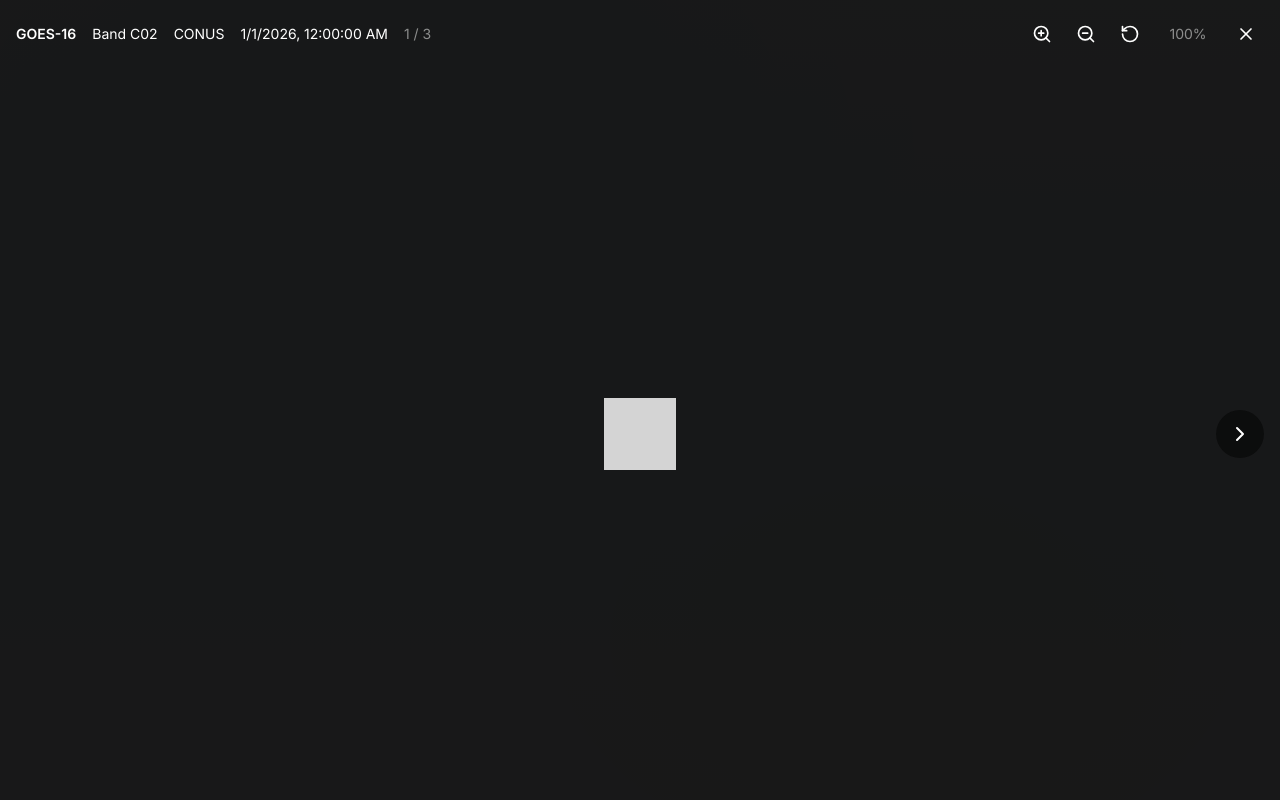
Test case: ImageViewer extended › resets zoom to 100%
This screenshot has width=1280, height=800.
Click the button titled "Zoom in" at (1042, 34), box [1024,16,1060,52]
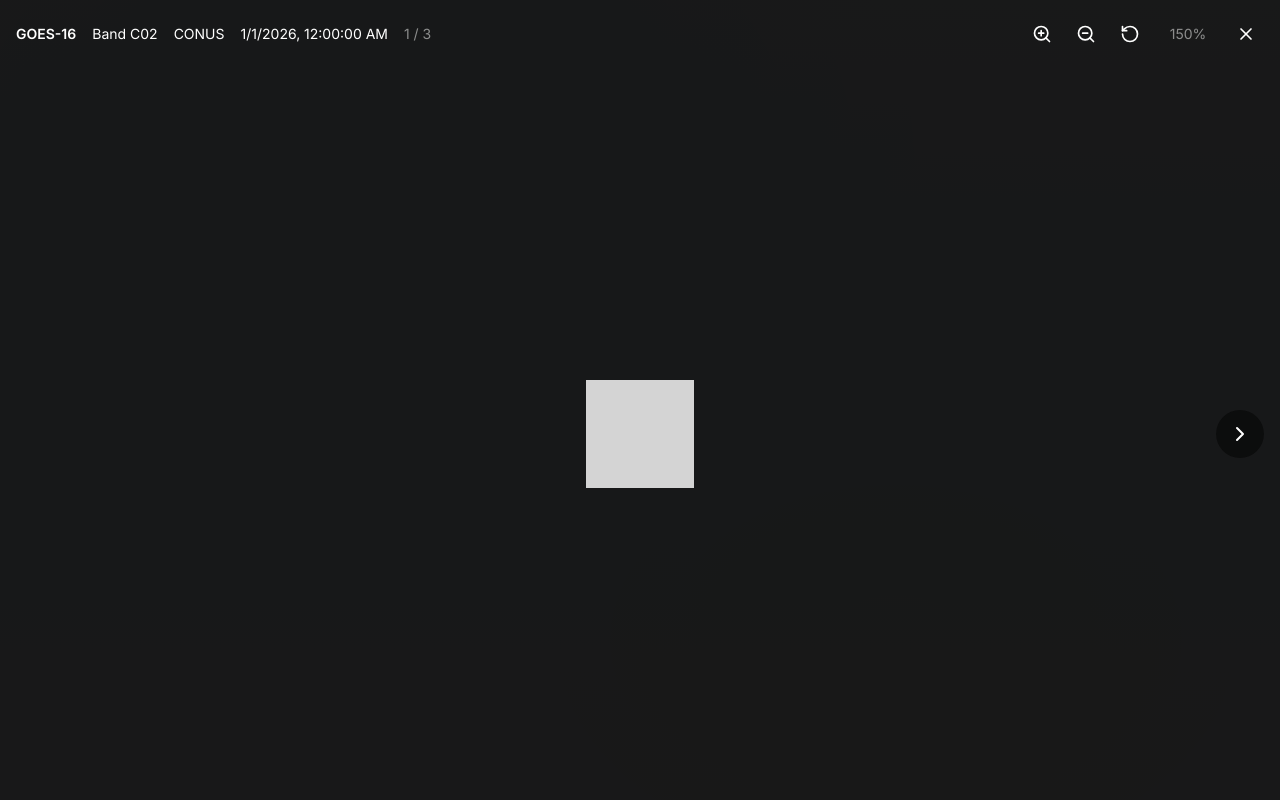
Expected: the text "150%" is shown, [1170,25,1206,42]
Click the button titled "Reset zoom" at (1130, 34), box [1112,16,1148,52]
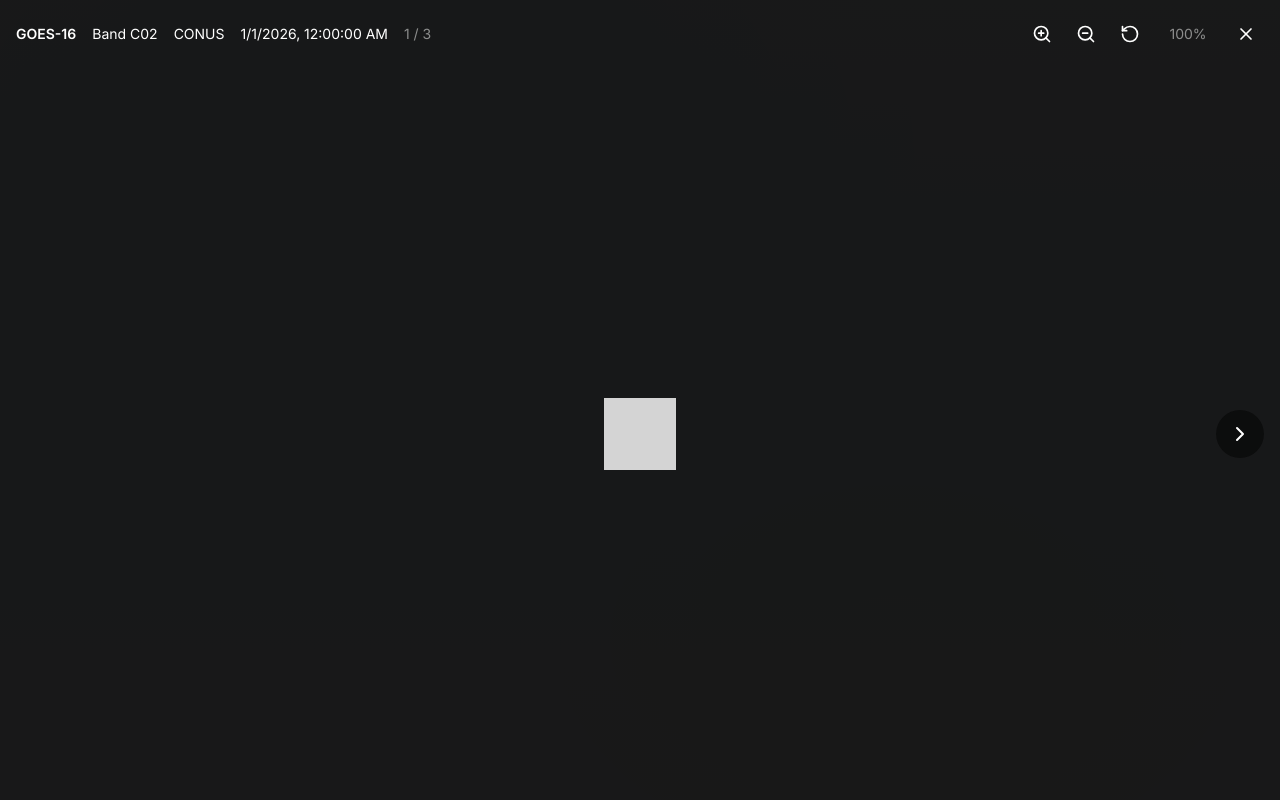
Expected: the text "100%" is shown, [1169,25,1206,42]
